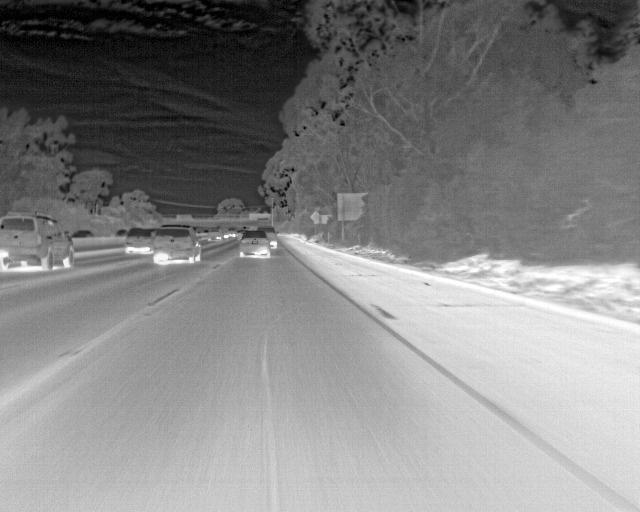car: (0, 211, 74, 273), (152, 223, 203, 268), (237, 230, 269, 262), (122, 226, 154, 256), (258, 224, 277, 248), (69, 228, 94, 240), (206, 226, 221, 240), (222, 226, 238, 239), (114, 228, 128, 238)
